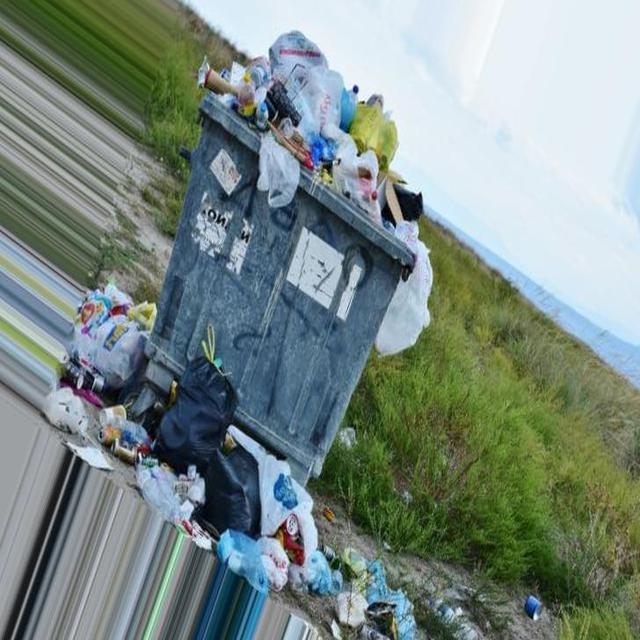garbage: (192, 25, 435, 252), (122, 340, 305, 527), (64, 265, 162, 393), (286, 546, 419, 640), (375, 246, 440, 368), (214, 526, 290, 598)
